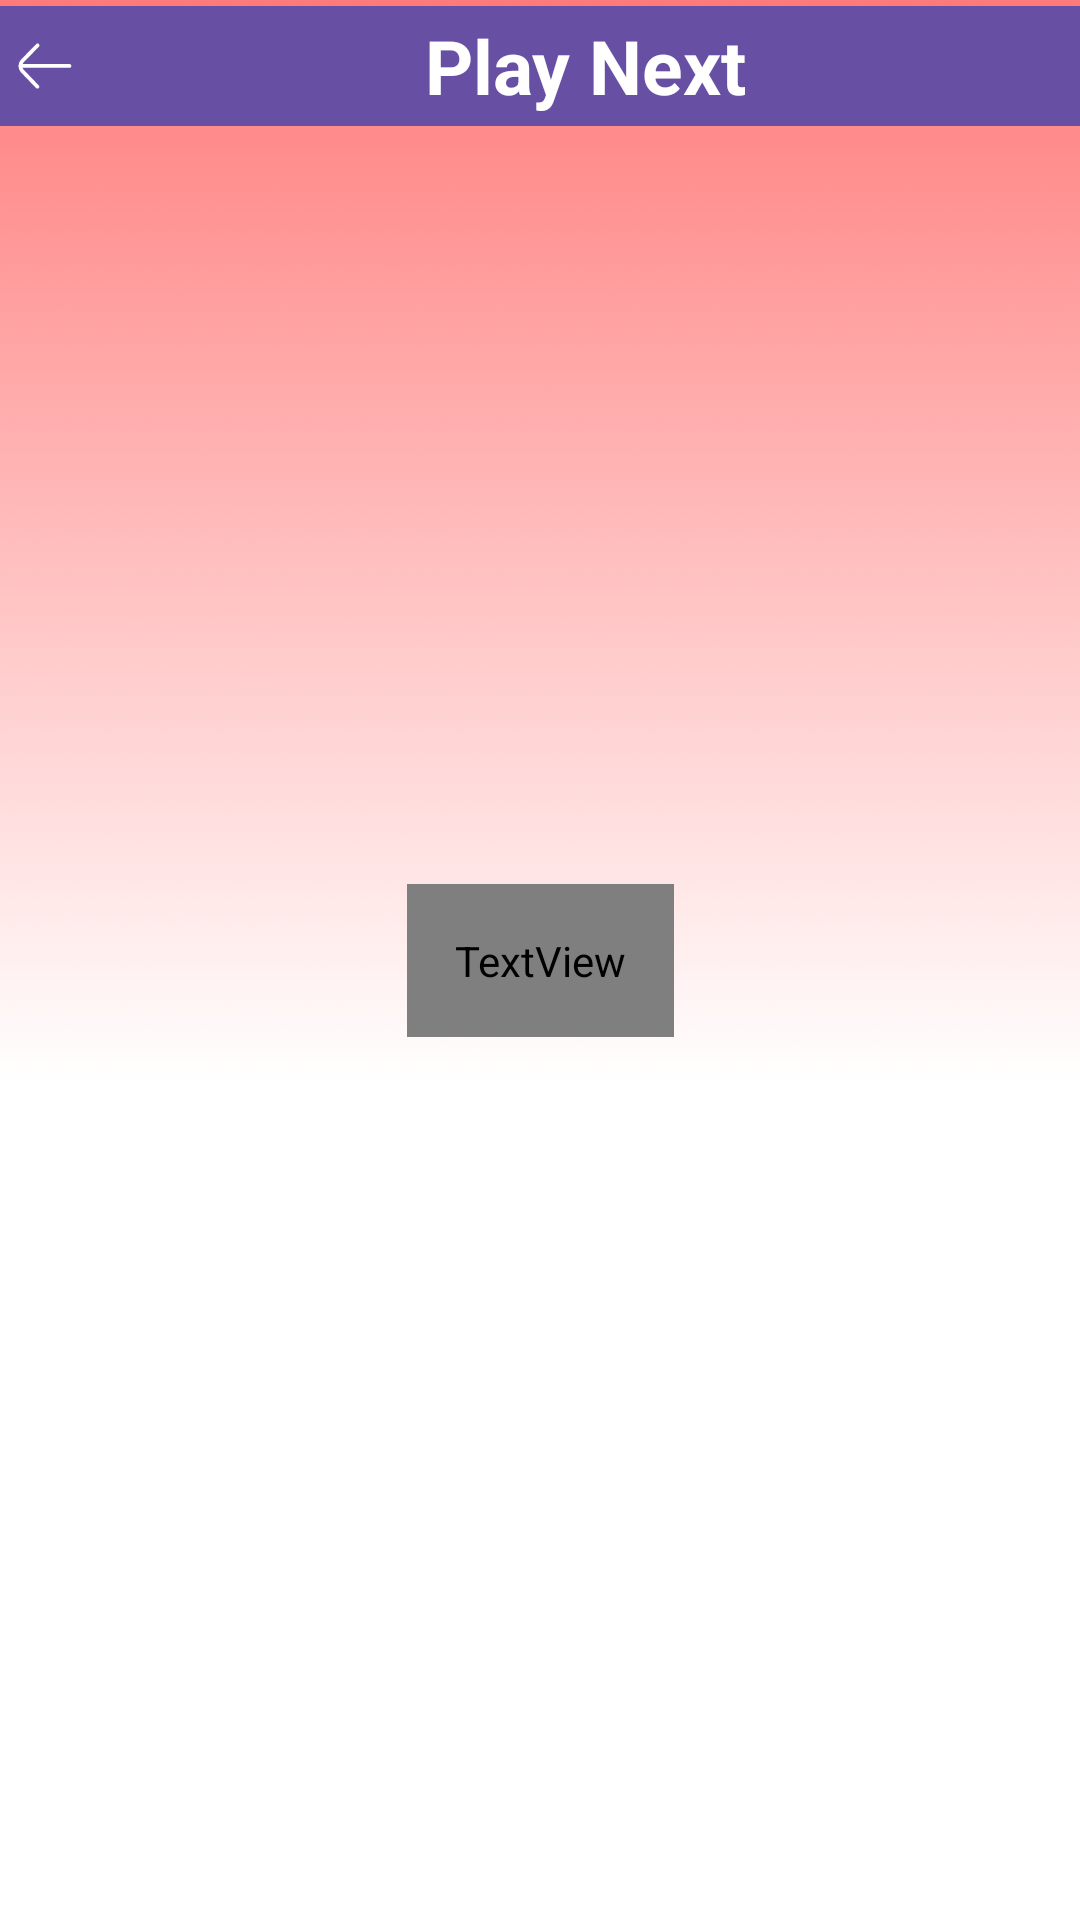

Icon bounding boxes for this 1080*1920 phone screenshot, format (x1, y1, x2, y2):
Back: (18, 43, 72, 89)
